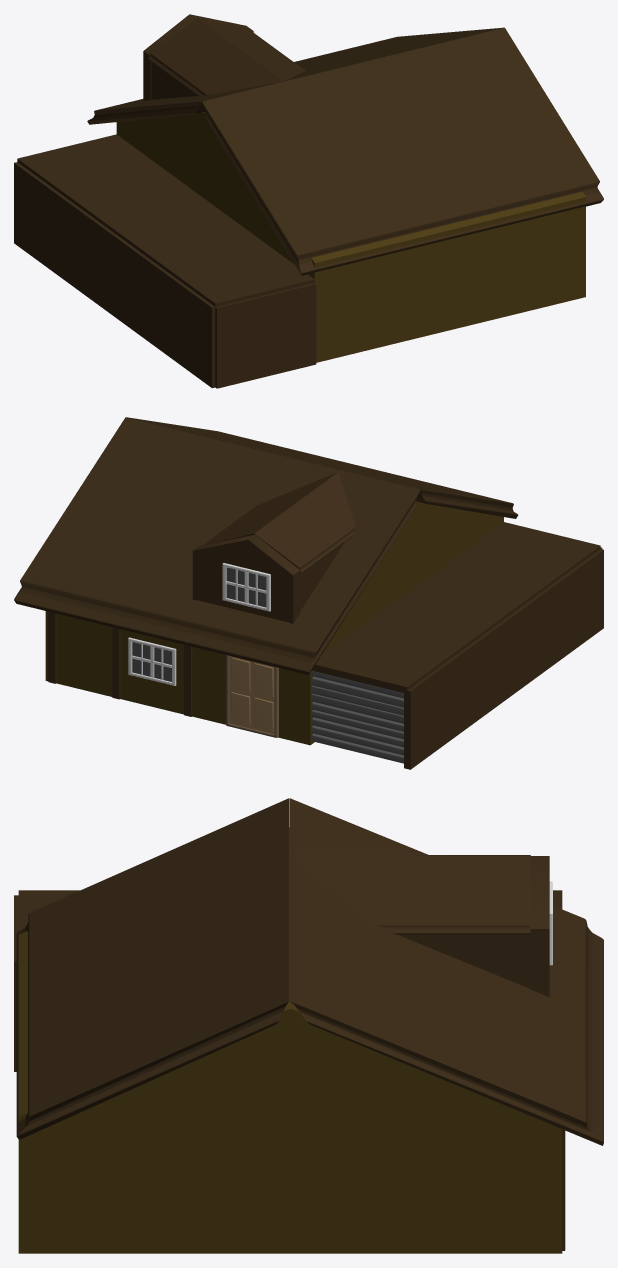
The model's file is house 1.fbx.
The picture shows the model from 3 angles, top to bottom: view 1: azimuth 30°, elevation 25°; view 2: azimuth 150°, elevation 25°; view 3: azimuth 270°, elevation 25°; orthographic projection. The views are drawn at different scales.
Parts seen in each view (by area): view 1: polySurface1178; view 2: polySurface1178; view 3: polySurface1178.
Part boxes in pixels (x1=…): polySurface1178: x1=14, y1=14, x2=603, y2=388; polySurface1178: x1=14, y1=417, x2=603, y2=769; polySurface1178: x1=14, y1=798, x2=603, y2=1253.
Bounding box in the file's own units: 1476 × 695 × 1403.
